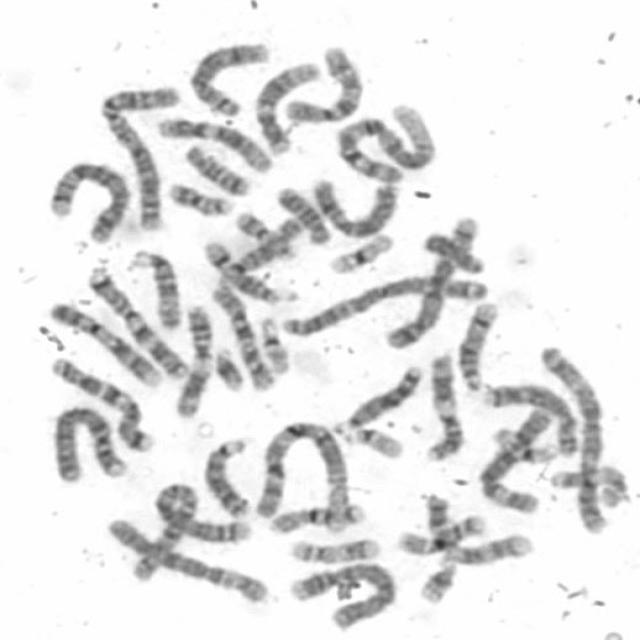A1: (254, 420, 351, 536), (331, 99, 439, 183)
A2: (92, 79, 179, 237), (130, 481, 252, 586)
A3: (535, 336, 610, 536), (276, 272, 492, 333)
B4: (284, 558, 398, 632), (47, 409, 128, 485)
B5: (382, 211, 483, 351), (48, 160, 131, 246)
C10: (206, 284, 277, 394), (280, 41, 364, 125)
C11: (169, 300, 216, 420), (422, 350, 464, 462)
C12: (153, 113, 273, 175), (251, 59, 321, 158)
C6: (102, 512, 272, 605), (473, 404, 555, 516)
C7: (83, 263, 188, 380), (44, 354, 154, 453)
C8: (481, 380, 578, 458), (184, 41, 272, 118)
C9: (44, 298, 164, 388), (418, 490, 535, 568)
D13: (327, 359, 425, 436), (198, 435, 252, 518)
D14: (199, 236, 296, 307), (452, 299, 500, 393)
D15: (225, 214, 306, 278), (126, 245, 183, 331)
E16: (394, 512, 487, 556), (264, 499, 368, 536)
E17: (548, 465, 632, 503), (286, 532, 381, 565)
E18: (180, 140, 250, 196), (272, 182, 332, 246)
F19: (324, 229, 395, 275), (487, 422, 561, 465)
F20: (231, 209, 300, 263), (164, 178, 236, 218)
G21: (415, 554, 460, 606), (211, 344, 245, 394)
G22: (338, 422, 406, 460), (256, 312, 292, 375)
X: (305, 177, 394, 241)
Y: (424, 231, 496, 276)
